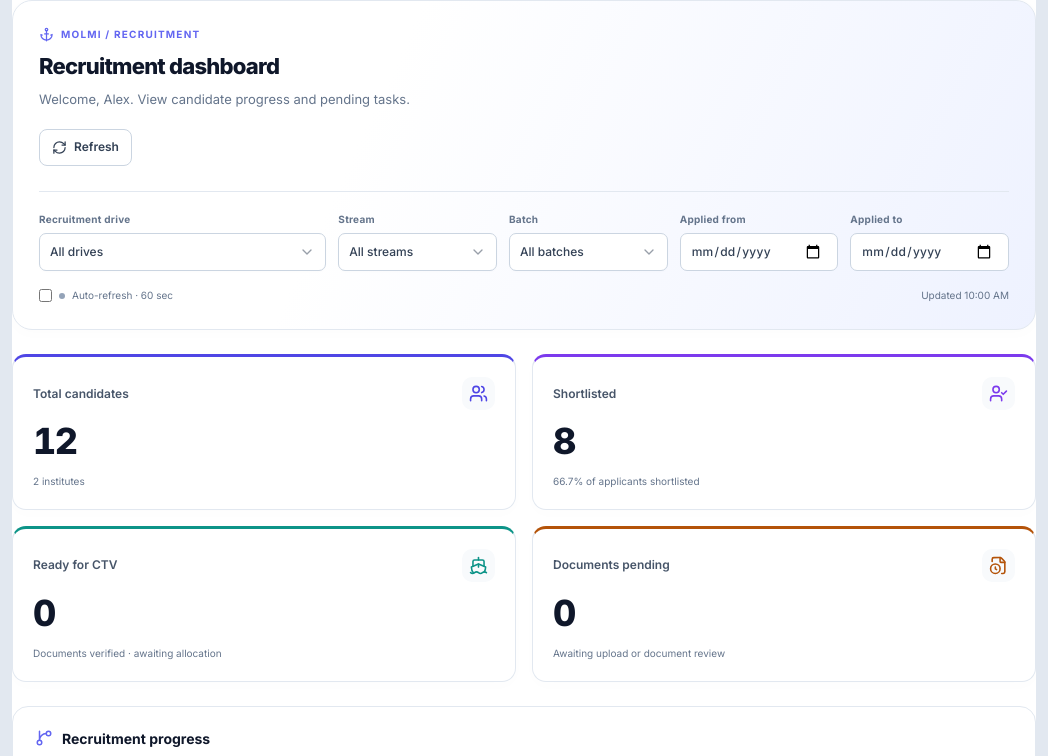
Test: filters apply to the API and a late response cannot replace the newest cohort
Check: the heading "Recruitment progress" is shown, box x1=35 y1=729 x2=210 y2=747
Press ArrowDown in the dropdown named "Recruitment drive", box x1=39 y1=233 x2=326 y2=271
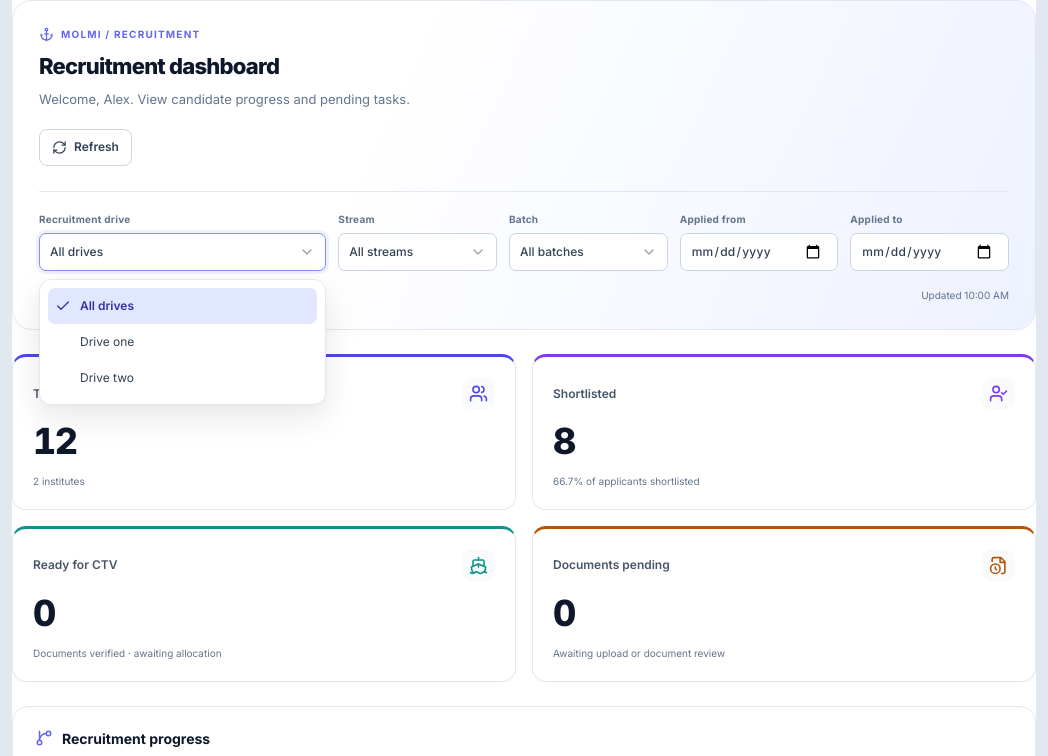
Click the option "Drive one" at (107, 342), box x1=48 y1=324 x2=317 y2=360
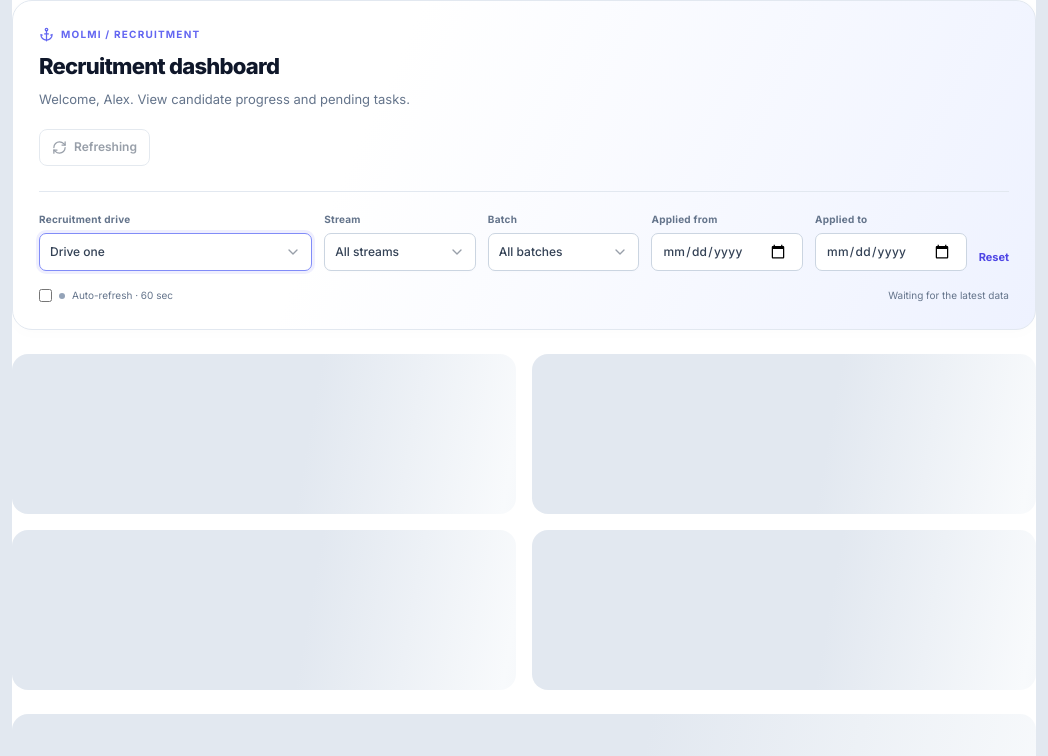
Press ArrowDown in the dropdown named "Recruitment drive", box x1=39 y1=233 x2=312 y2=271
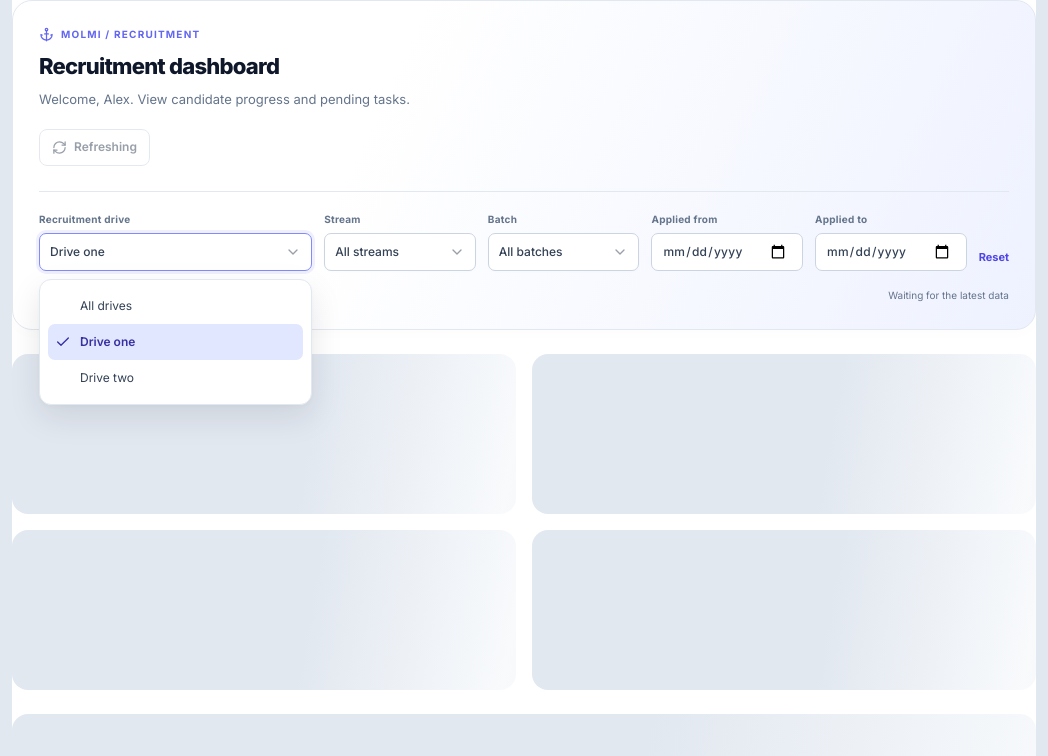
Click the option "Drive two" at (176, 378), box x1=48 y1=360 x2=303 y2=396
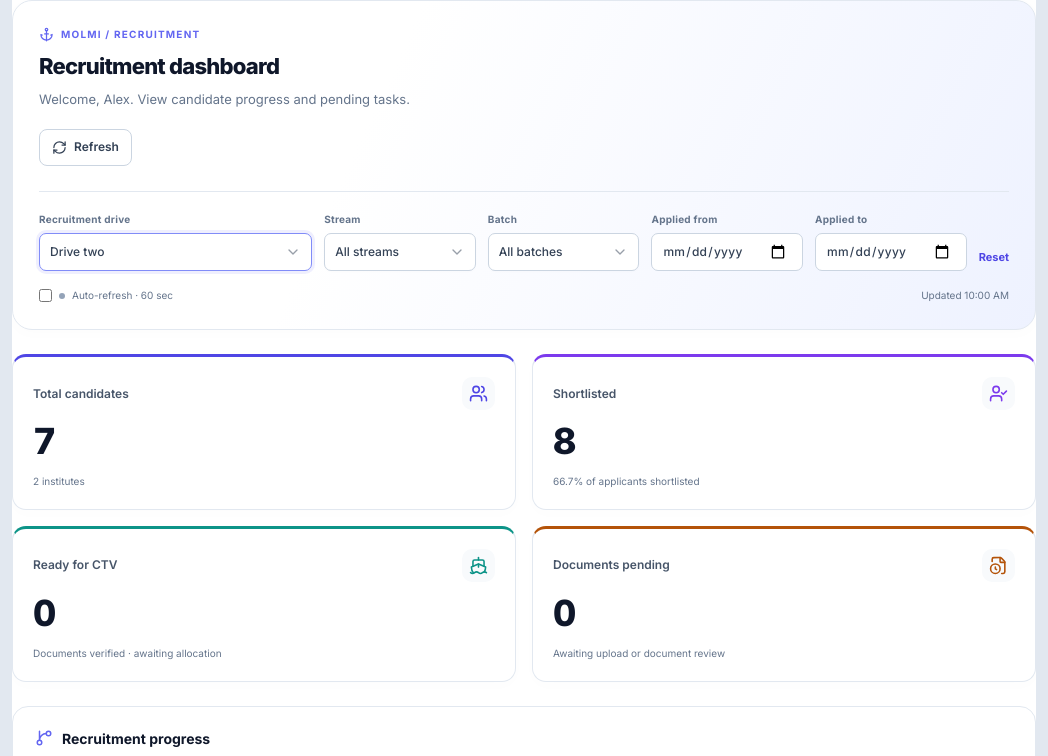
Check: the element labelled "7" is shown, box x1=33 y1=419 x2=55 y2=463
